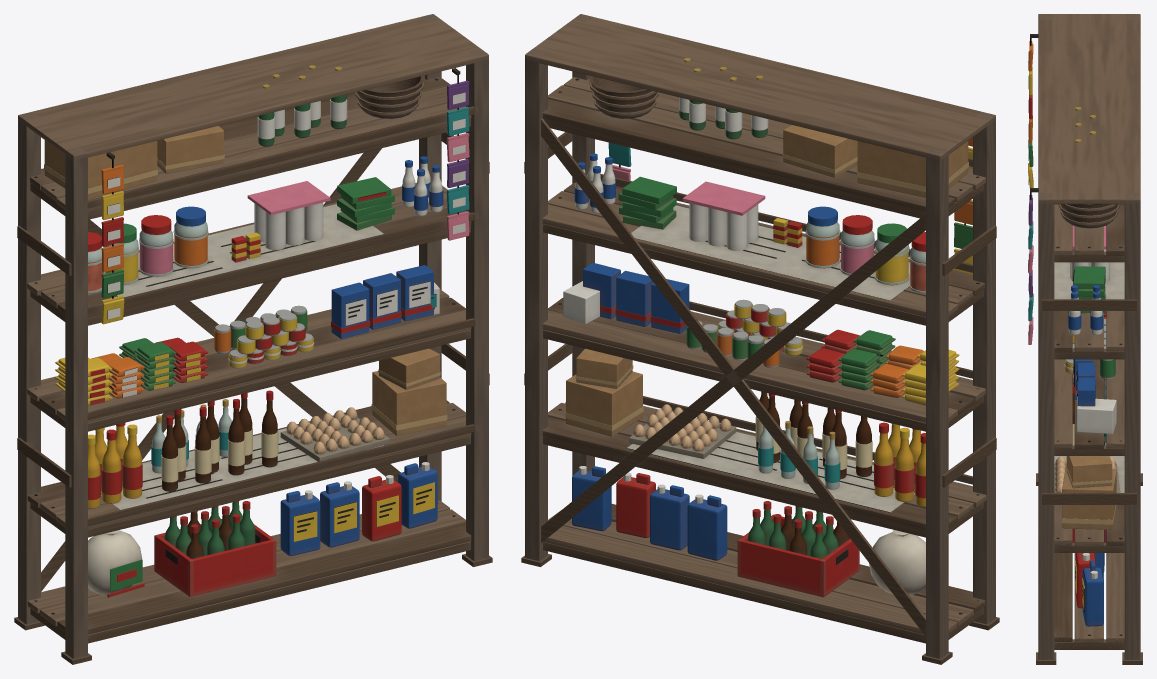
Rendered from ShackShelfV2.fbx.
3 views of the same model, side by side, from view 1: azimuth 30°, elevation 25°; view 2: azimuth 150°, elevation 25°; view 3: azimuth 270°, elevation 25° (orthographic). The views are drawn at different scales.
Parts seen in each view (by area): view 1: ShackShelf, ShelfGoods_Upper, ShelfGoods_Lower; view 2: ShackShelf, ShelfGoods_Upper, ShelfGoods_Lower; view 3: ShackShelf, ShelfGoods_Upper, ShelfGoods_Lower.
Boxes of the visible parts, x1,y1,x2,y2 form: ShackShelf: [14, 14, 492, 664]; ShelfGoods_Upper: [44, 65, 469, 405]; ShelfGoods_Lower: [88, 348, 447, 597]; ShackShelf: [521, 14, 999, 664]; ShelfGoods_Upper: [563, 58, 972, 405]; ShelfGoods_Lower: [565, 348, 925, 597]; ShackShelf: [1036, 14, 1142, 664]; ShelfGoods_Upper: [1028, 34, 1120, 433]; ShelfGoods_Lower: [1054, 374, 1120, 626].
Size of the model in its own units: 170 by 197 by 43.91.
3 materials, 3 textured.
